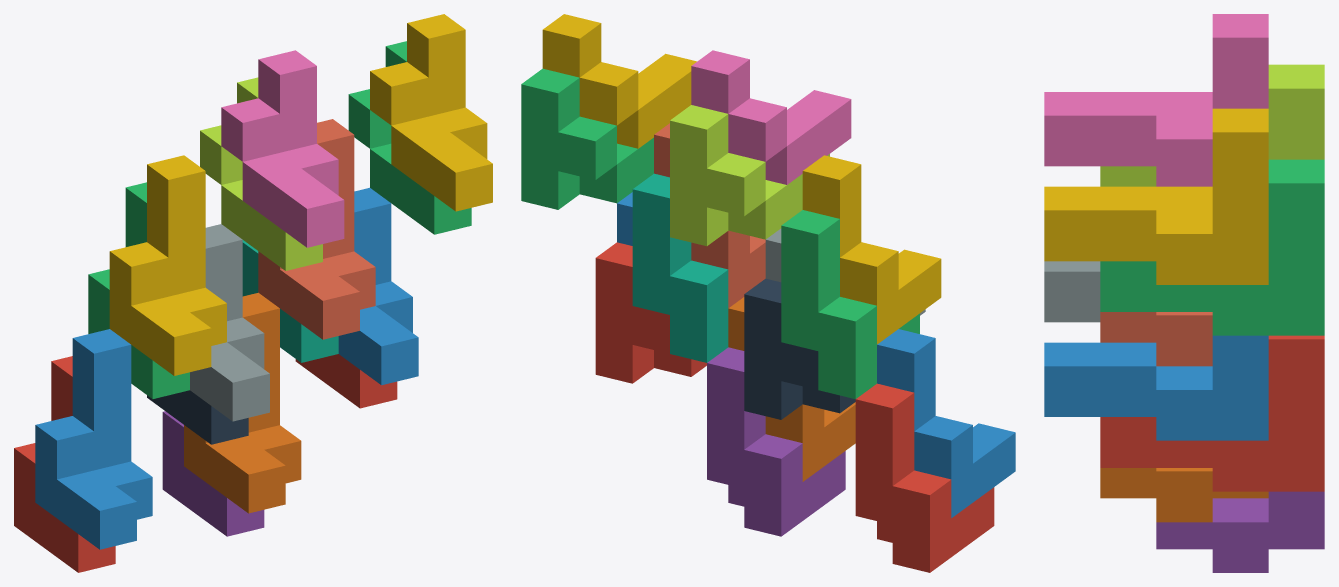
File: tiling.obj
3 renders of one model, left to right at view 1: azimuth 30°, elevation 25°; view 2: azimuth 150°, elevation 25°; view 3: azimuth 270°, elevation 25°, orthographic. The views are drawn at different scales.
Parts seen in each view (by area): view 1: copy_1_domain_2, copy_1_domain_4, copy_2_domain_4, copy_2_domain_8, copy_1_domain_8, copy_1_domain_6, copy_2_domain_6, copy_2_domain_2, copy_1_domain_1, copy_2_domain_7, copy_2_domain_3, copy_1_domain_3 (+4 smaller); view 2: copy_1_domain_1, copy_1_domain_5, copy_1_domain_3, copy_2_domain_7, copy_2_domain_3, copy_1_domain_7, copy_2_domain_4, copy_1_domain_4, copy_1_domain_2, copy_2_domain_8, copy_2_domain_5, copy_2_domain_1 (+4 smaller); view 3: copy_2_domain_8, copy_2_domain_4, copy_2_domain_6, copy_2_domain_7, copy_2_domain_5, copy_1_domain_5, copy_2_domain_3, copy_1_domain_6, copy_1_domain_8, copy_2_domain_2.
Boxes of the visible parts, x1,y1,x2,y2 form: copy_1_domain_2: (35, 329, 152, 549); copy_1_domain_4: (109, 155, 226, 375); copy_2_domain_4: (221, 50, 344, 247); copy_2_domain_8: (370, 14, 492, 211); copy_1_domain_8: (258, 119, 375, 339); copy_1_domain_6: (184, 292, 301, 513); copy_2_domain_6: (338, 187, 418, 385); copy_2_domain_2: (190, 224, 269, 421); copy_1_domain_1: (14, 356, 115, 572); copy_2_domain_7: (348, 41, 471, 234); copy_2_domain_3: (200, 77, 322, 270); copy_1_domain_3: (88, 182, 189, 398); copy_1_domain_1: (855, 383, 994, 572); copy_1_domain_5: (707, 347, 845, 536); copy_1_domain_3: (781, 210, 919, 398); copy_2_domain_7: (521, 68, 653, 209); copy_2_domain_3: (670, 105, 829, 246); copy_1_domain_7: (632, 173, 728, 362); copy_2_domain_4: (691, 50, 851, 184); copy_1_domain_4: (802, 155, 941, 344); copy_1_domain_2: (877, 329, 1015, 517); copy_2_domain_8: (542, 14, 696, 148); copy_2_domain_5: (595, 242, 706, 383); copy_2_domain_1: (744, 278, 855, 419); copy_2_domain_8: (1044, 108, 1268, 284); copy_2_domain_4: (1044, 14, 1268, 186); copy_2_domain_6: (1044, 335, 1268, 440); copy_2_domain_7: (1100, 159, 1324, 335); copy_2_domain_5: (1100, 335, 1324, 491); copy_1_domain_5: (1156, 491, 1324, 572); copy_2_domain_3: (1100, 64, 1324, 186); copy_1_domain_6: (1100, 468, 1268, 522); copy_1_domain_8: (1100, 312, 1212, 366); copy_2_domain_2: (1044, 261, 1100, 322).
Bounding box in the file's own units: 11 × 11 × 5.
